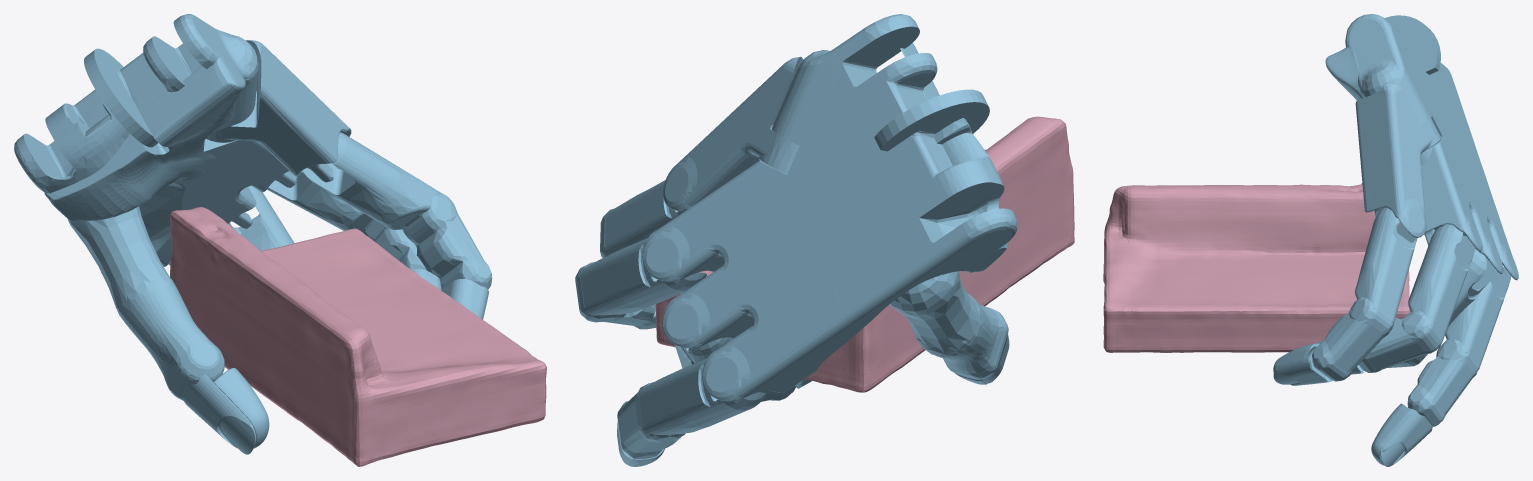
3 views of the same model, side by side, from view 1: azimuth 30°, elevation 25°; view 2: azimuth 150°, elevation 25°; view 3: azimuth 270°, elevation 25° (orthographic). The views are drawn at different scales.
Parts seen in each view (by area): view 1: hand_isaac_q, world; view 2: hand_isaac_q, world; view 3: hand_isaac_q, world.
Boxes of the visible parts, box(x1,y1,x2,y2) form: hand_isaac_q: box(14, 14, 492, 454); world: box(170, 207, 546, 466); hand_isaac_q: box(575, 14, 1017, 466); world: box(655, 116, 1074, 392); hand_isaac_q: box(1273, 14, 1518, 466); world: box(1103, 184, 1410, 352).
Size of the model in its own units: 0.1648 by 0.1724 by 0.179.
